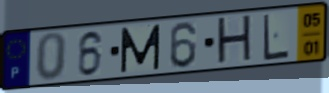0: (32, 30, 71, 83)
6: (168, 19, 198, 71), (76, 30, 103, 78)
H: (215, 13, 254, 68)
L: (262, 12, 291, 63)
M: (119, 23, 163, 75)
